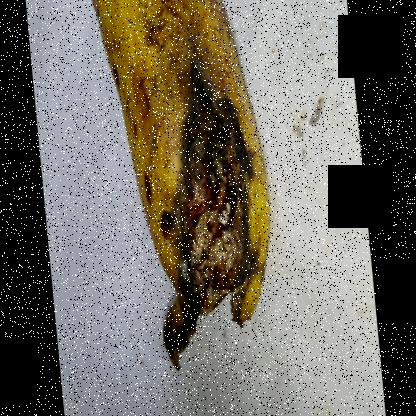rotten: (115, 44, 290, 356)
